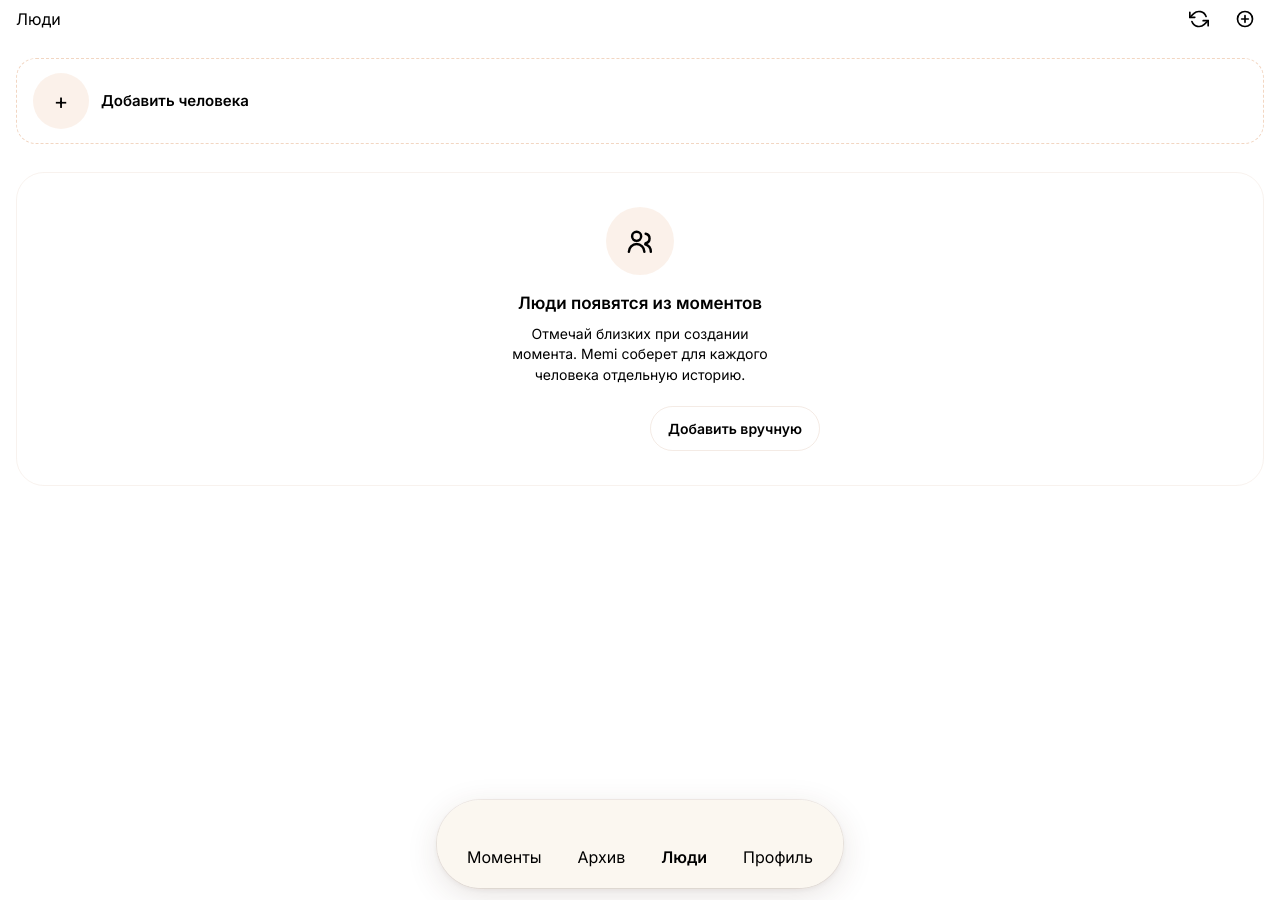
Scenario: People › показывает ошибку если createPerson падает
Click the button named "Добавить человека": (1245, 19) [1226, 0, 1264, 38]
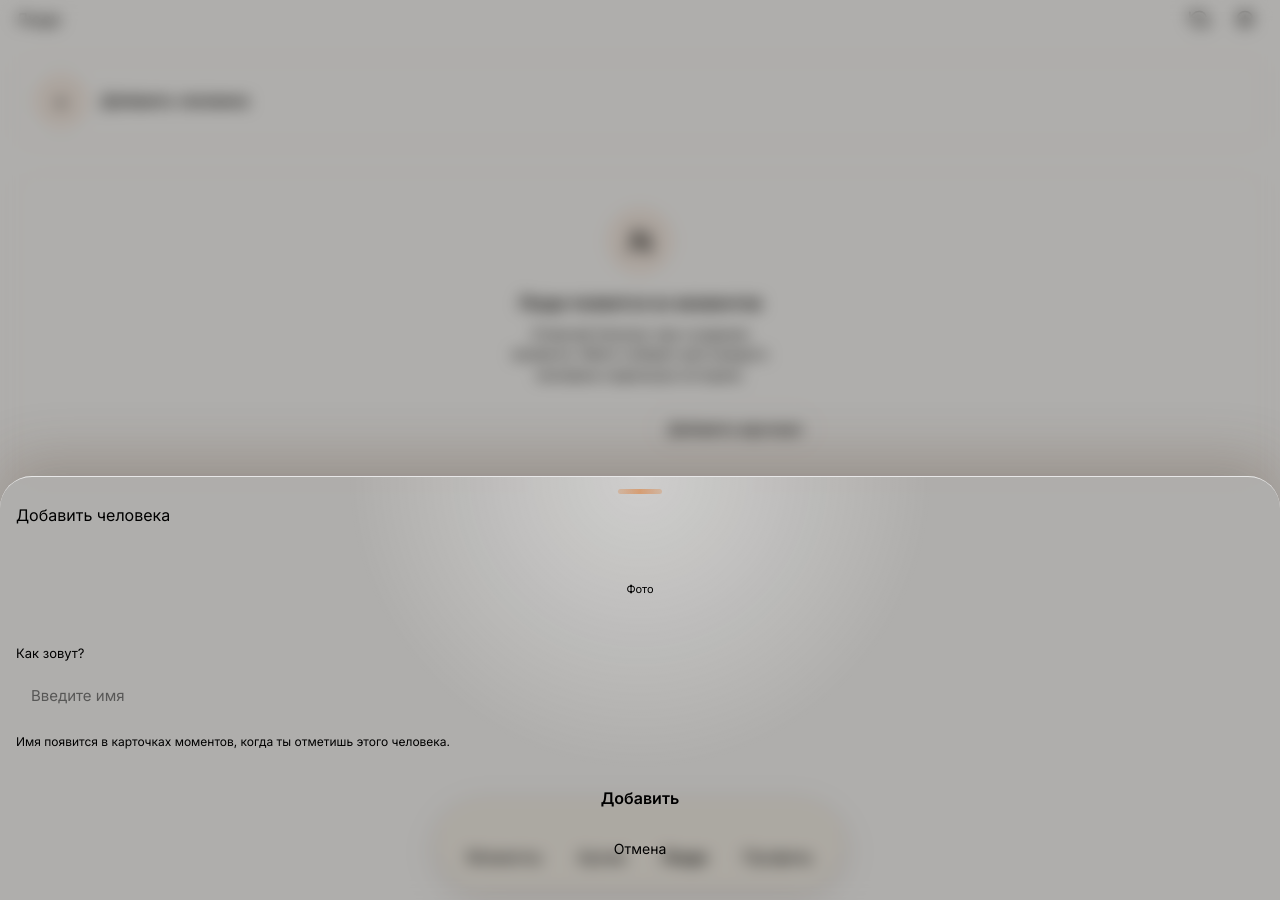
In the field with placeholder "Введите имя": (640, 696) [16, 672, 1264, 721], type "Ошибка"
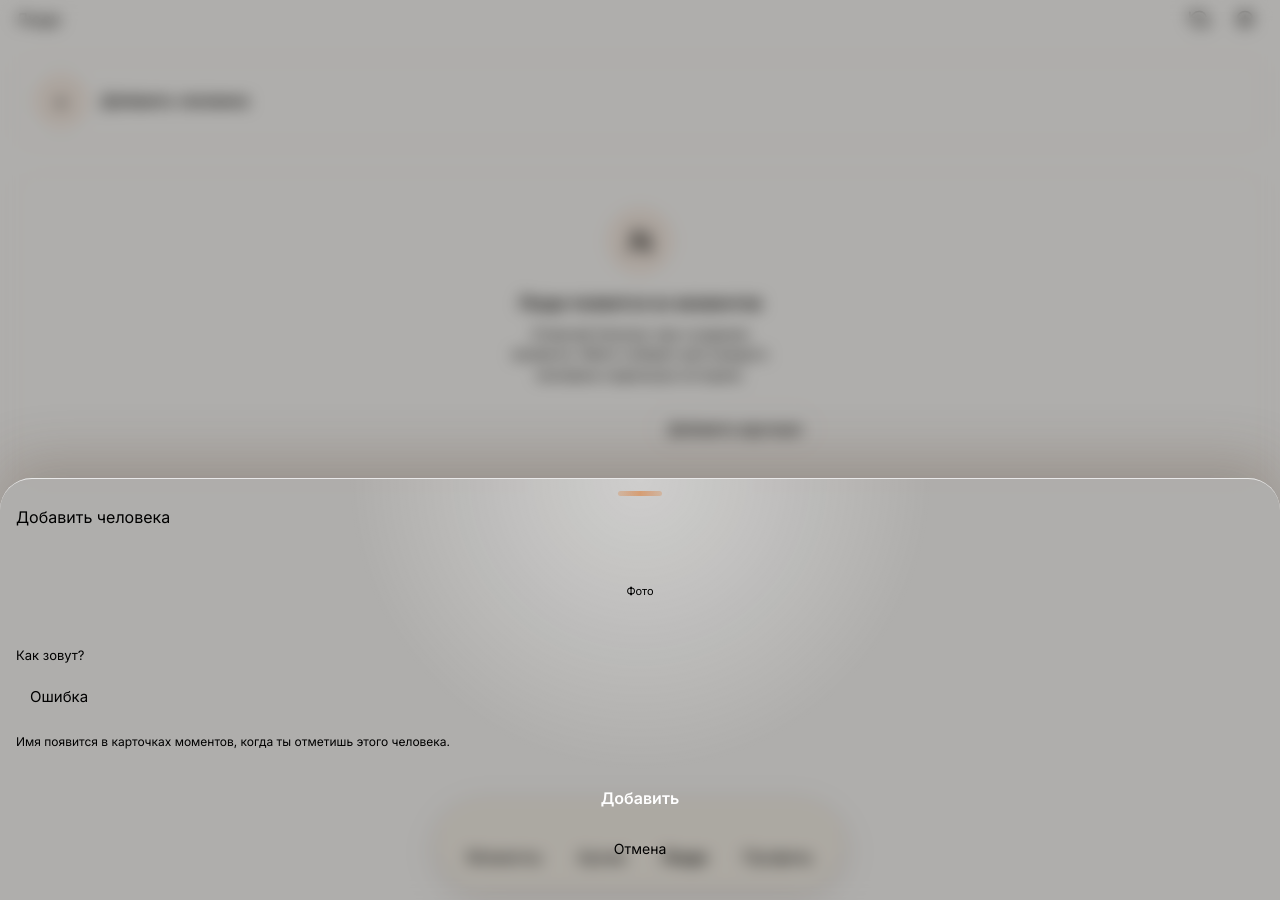
Click the button "Добавить": (640, 798) [16, 770, 1264, 826]
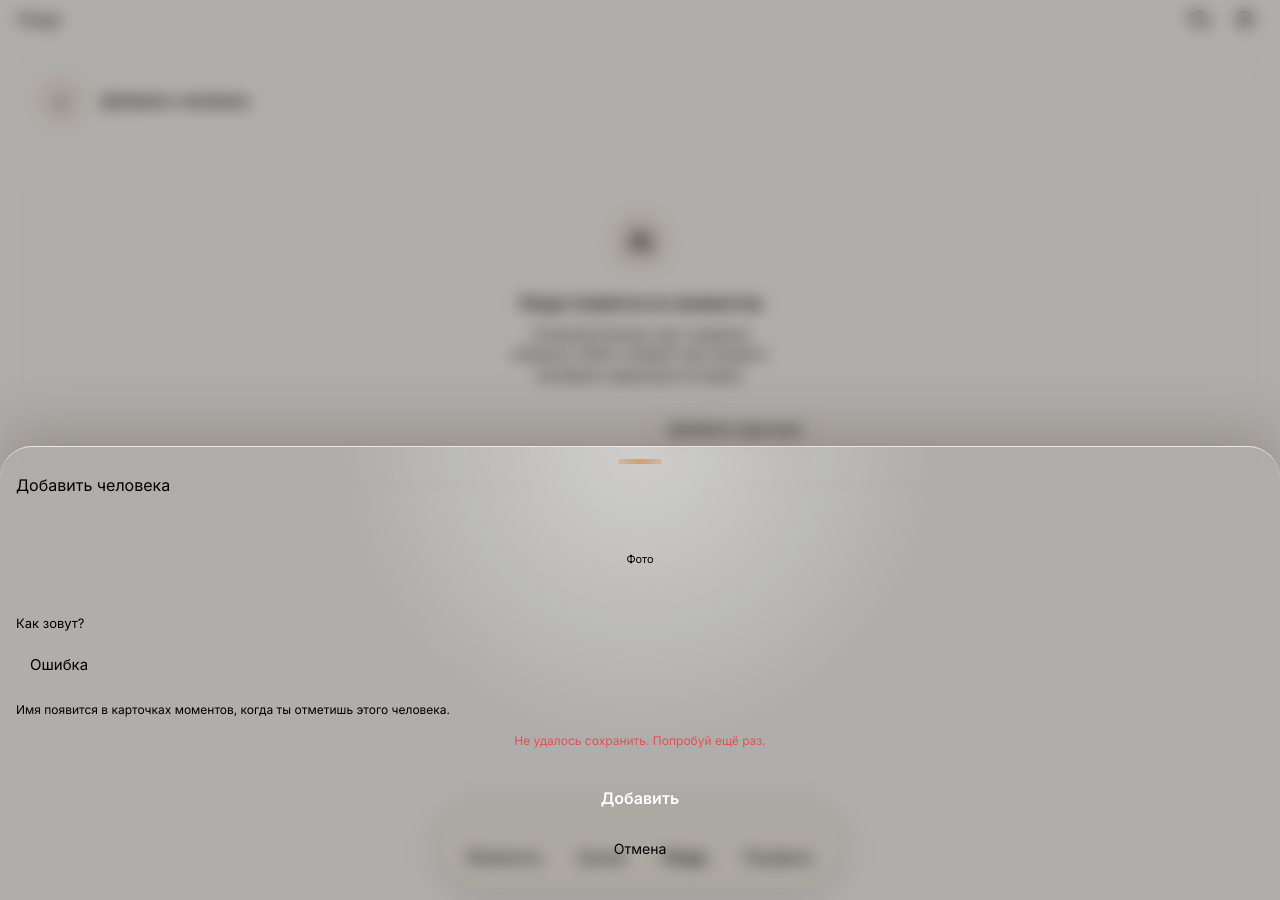
Expected: the text "Не удалось сохранить. Попробуй ещё раз." is shown, [514, 733, 766, 748]
